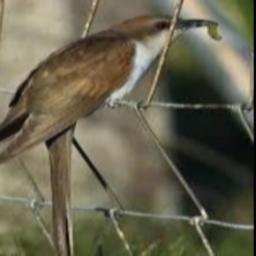Cuckoo: (0, 14, 219, 256)
